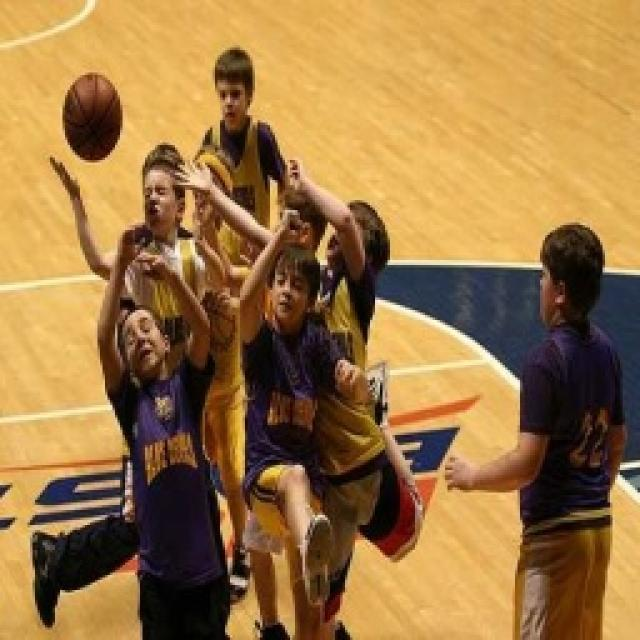rim: (62, 63, 124, 164)
